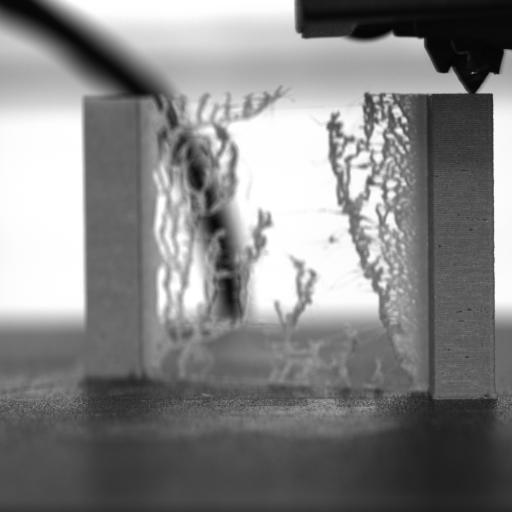spaghetti_and_stringing: (150, 87, 288, 341), (325, 94, 423, 385)
